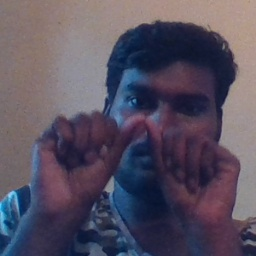A: (65, 107, 212, 216)
